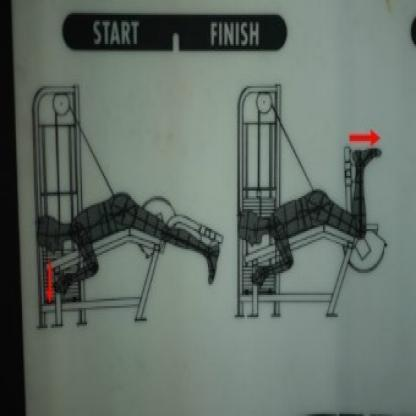reg curl machine: (29, 81, 225, 337), (231, 76, 393, 335)
